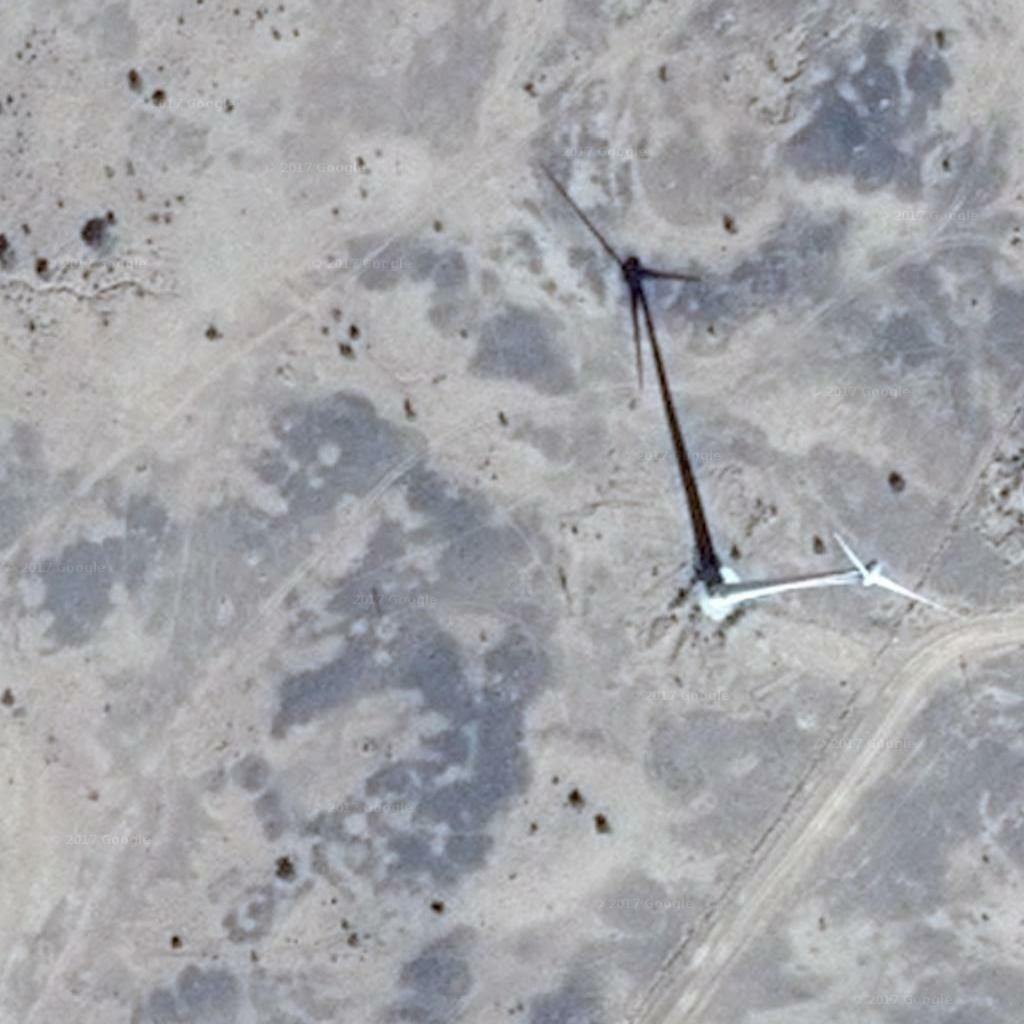Windmill: (533, 159, 744, 579)
